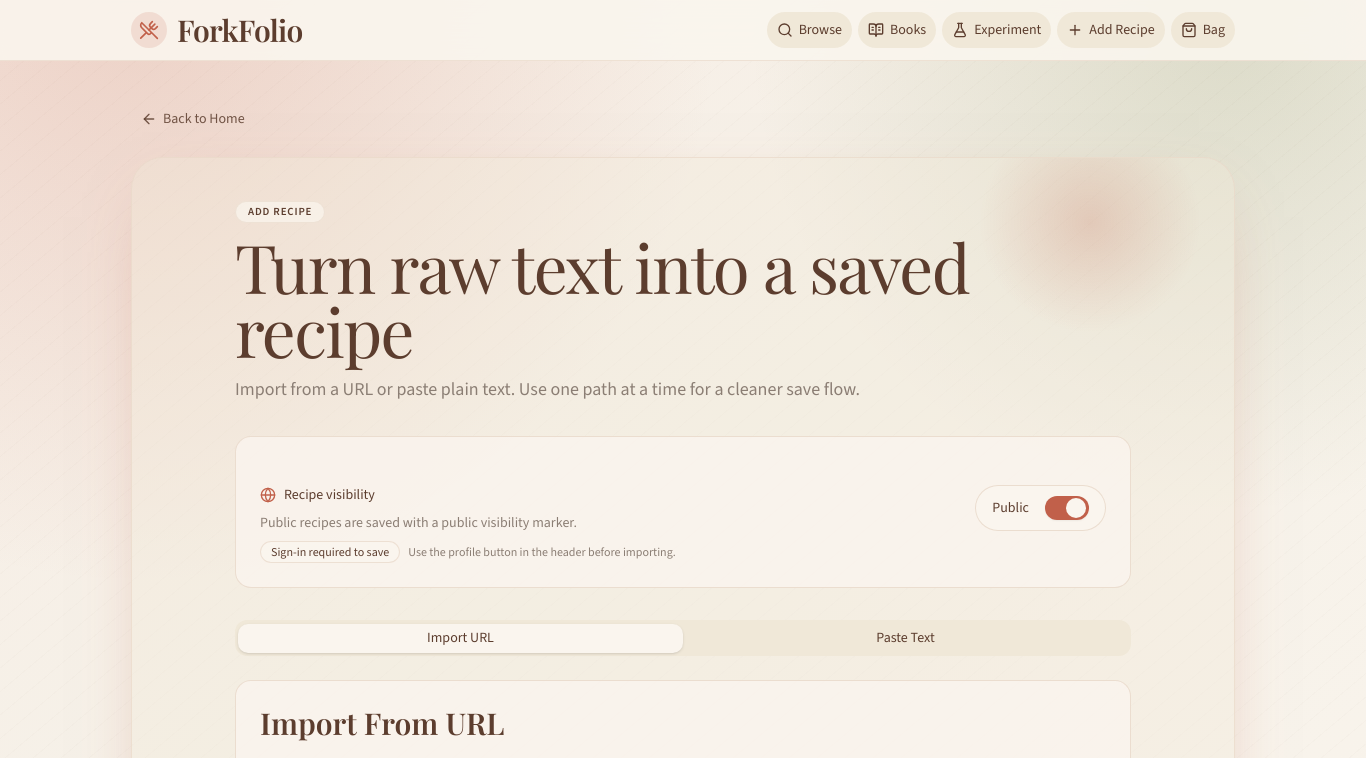
Test case: /recipes/new page › disables submit while input is too short
The image size is (1366, 758).
Click the tab "Paste Text" at (906, 638), box [683,624,1128,653]
(page scrolled)
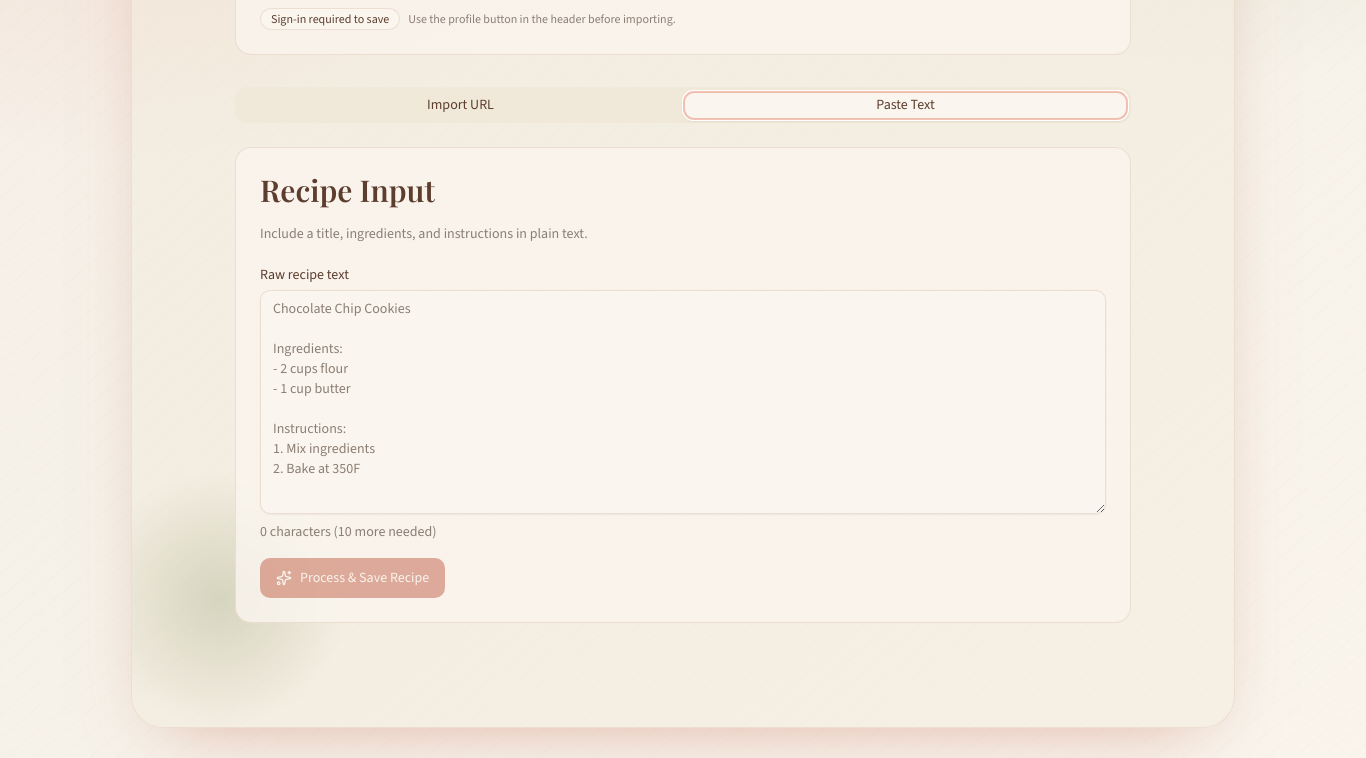
Type "too short" into the text box labelled "Raw recipe text" at (683, 402), box [260,290,1106,514]
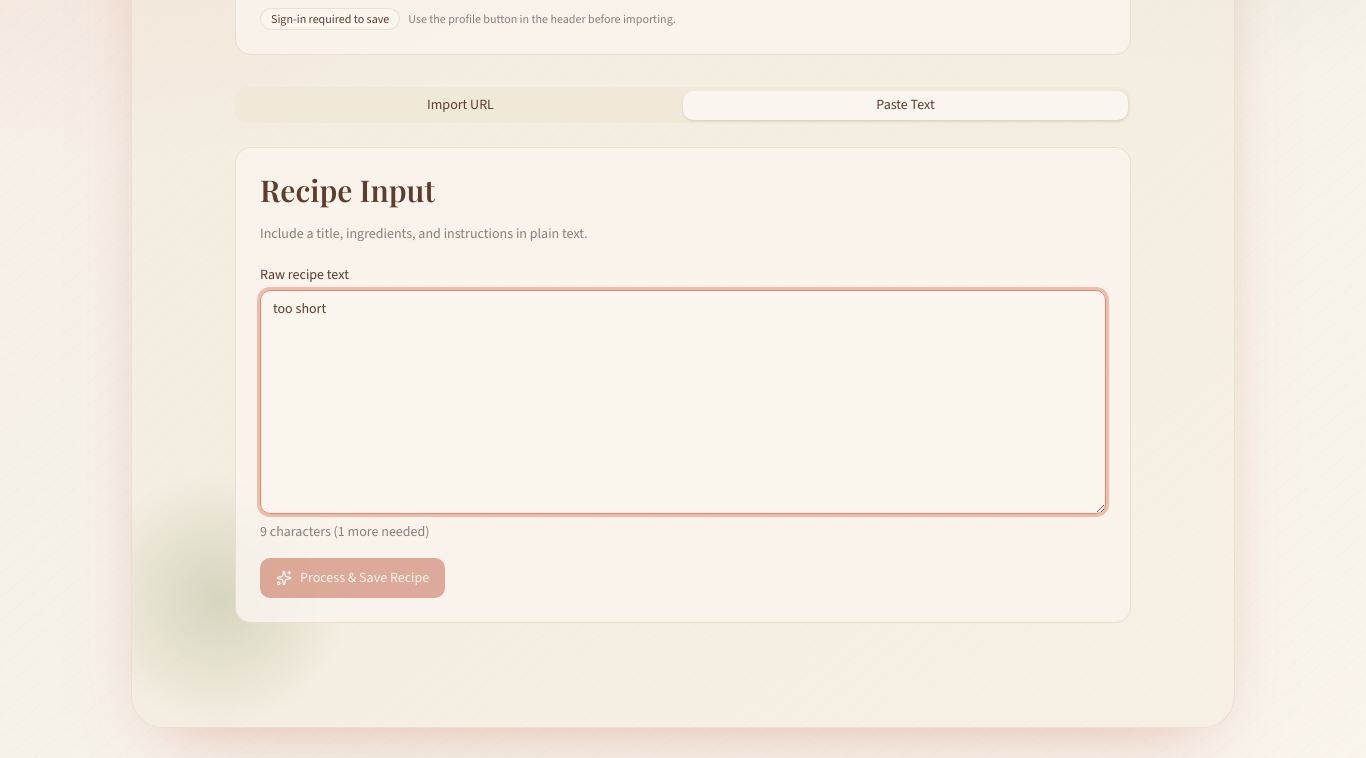
Expected: the button "Process & Save Recipe" is disabled, [260,558,445,598]
Expected: the text "9 characters (1 more needed)" is shown, [260,522,430,541]
